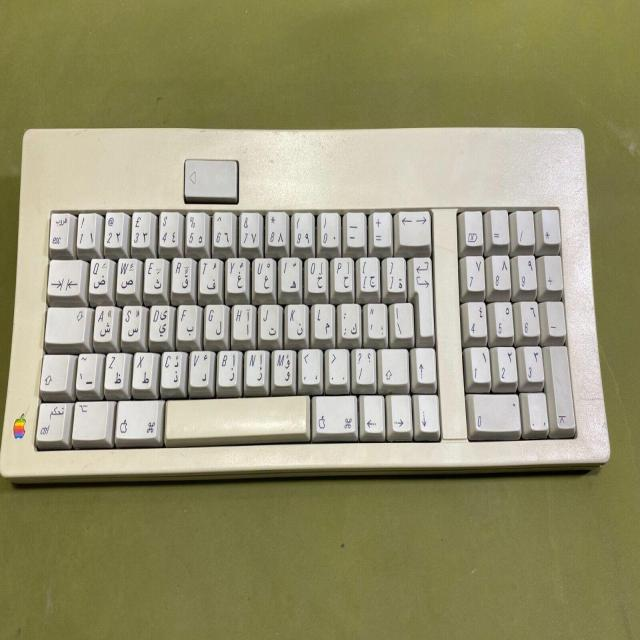keyboard: (0, 129, 609, 477)
